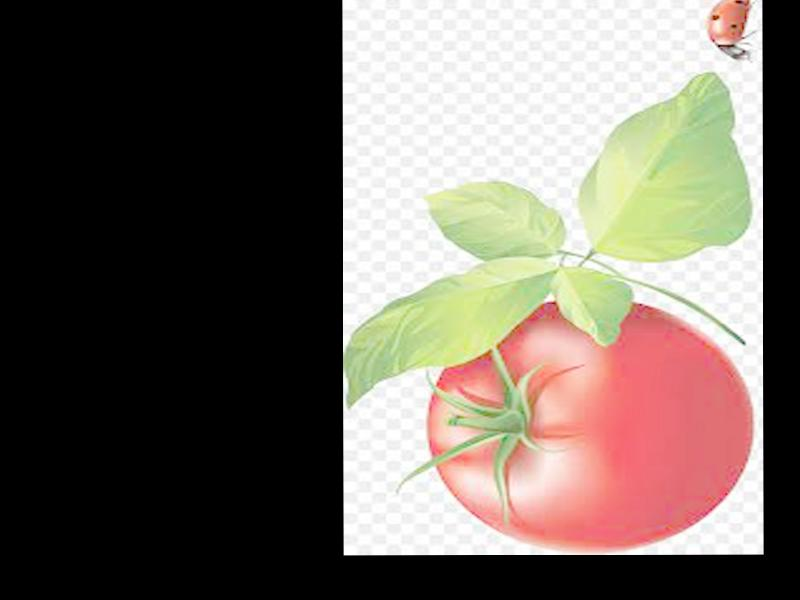Tomato: (426, 301, 753, 553)
